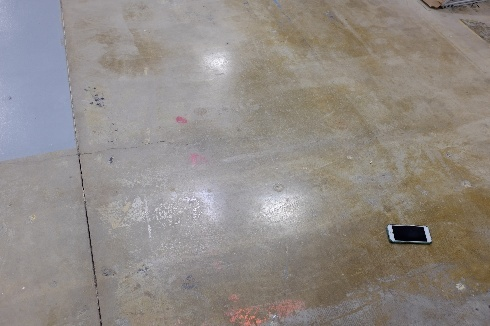phone: (385, 217, 434, 249)
